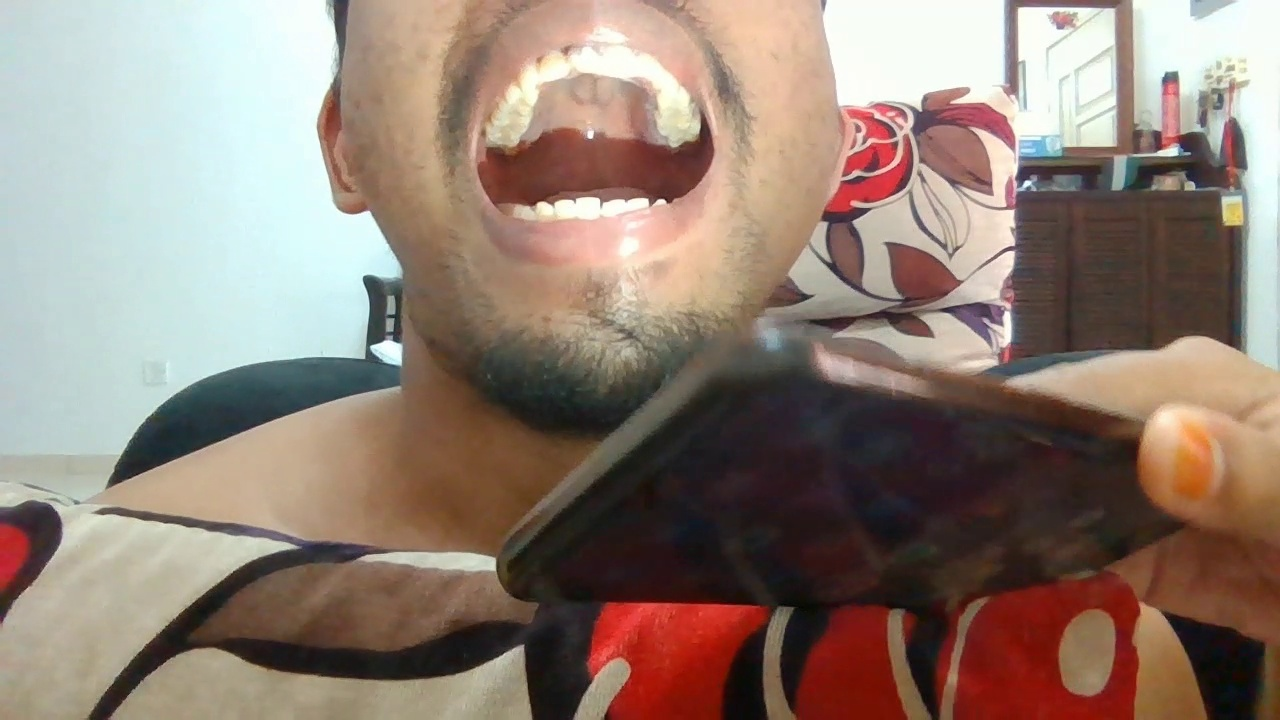1st Molar: (492, 108, 532, 131)
1st Premolar: (505, 87, 541, 102), (521, 206, 536, 220)
2nd Premolar: (501, 101, 534, 115)
Canine: (519, 65, 541, 93), (534, 200, 554, 222), (652, 196, 668, 208)
Central Incisor: (566, 46, 603, 75), (575, 196, 600, 220), (600, 199, 627, 218)
Lateral Incisor: (539, 51, 567, 80), (553, 199, 575, 220), (627, 197, 650, 213)
